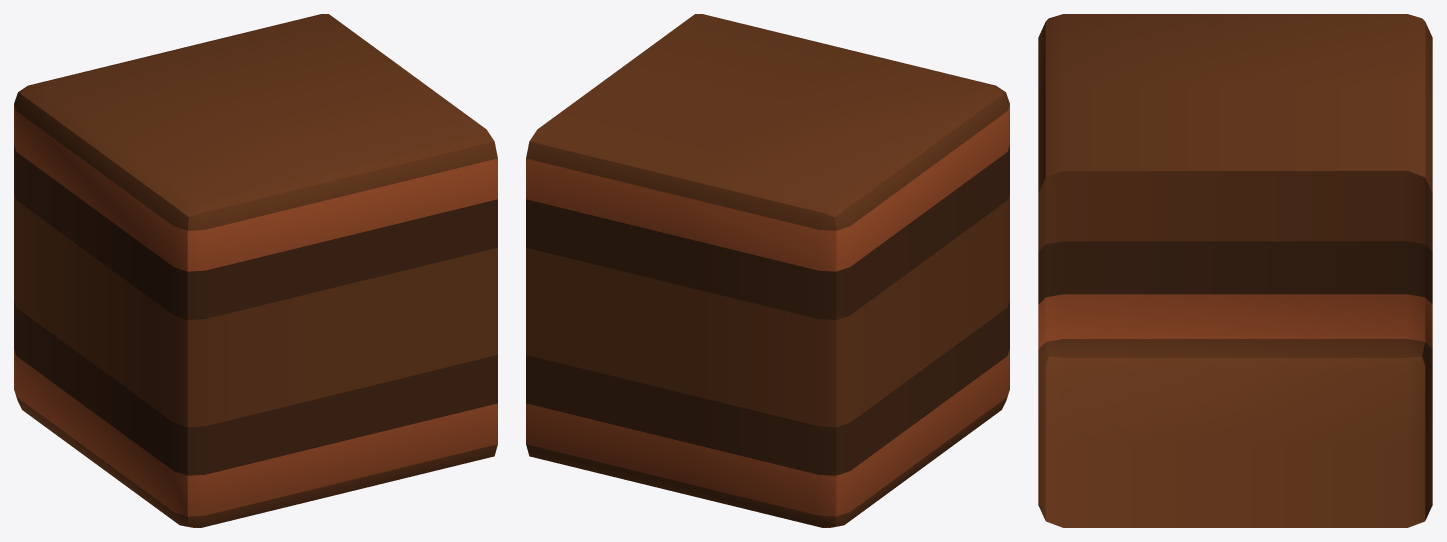
File: Cube_Dirt_1x1End.obj
The picture shows the model from 3 angles, left to right: view 1: azimuth 30°, elevation 25°; view 2: azimuth 150°, elevation 25°; view 3: azimuth 270°, elevation 25°; orthographic projection. The views are drawn at different scales.
Visible parts, largest first — view 1: Cube_Dirt_1x1End_Cube.046; view 2: Cube_Dirt_1x1End_Cube.046; view 3: Cube_Dirt_1x1End_Cube.046.
Boxes of the visible parts, bbox=[...] form: Cube_Dirt_1x1End_Cube.046: bbox=[14, 14, 497, 527]; Cube_Dirt_1x1End_Cube.046: bbox=[526, 14, 1009, 527]; Cube_Dirt_1x1End_Cube.046: bbox=[1038, 14, 1432, 527].
Size of the model in its own units: 2 by 2 by 2.
